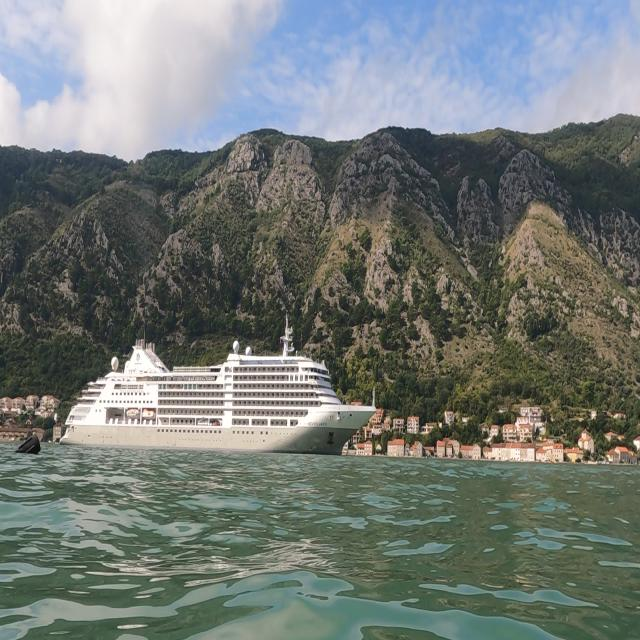boat: (58, 311, 378, 457)
buoy: (11, 424, 48, 464)
